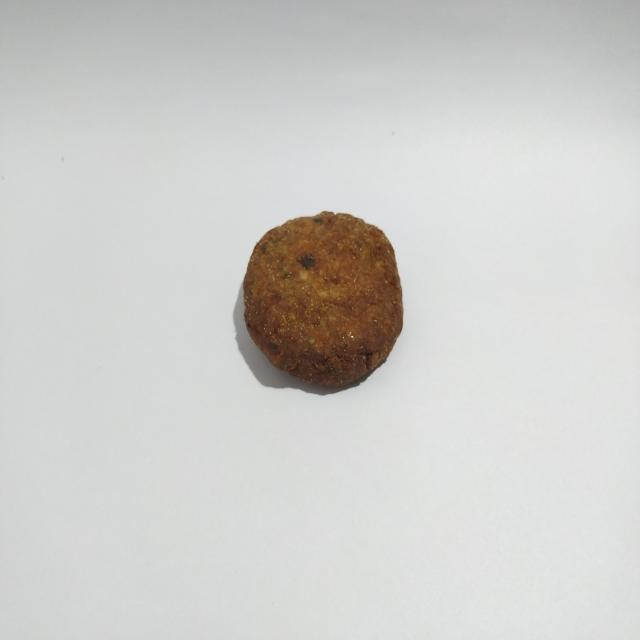Pajagua: (233, 198, 414, 392)
